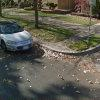Car: (1, 15, 37, 61)
